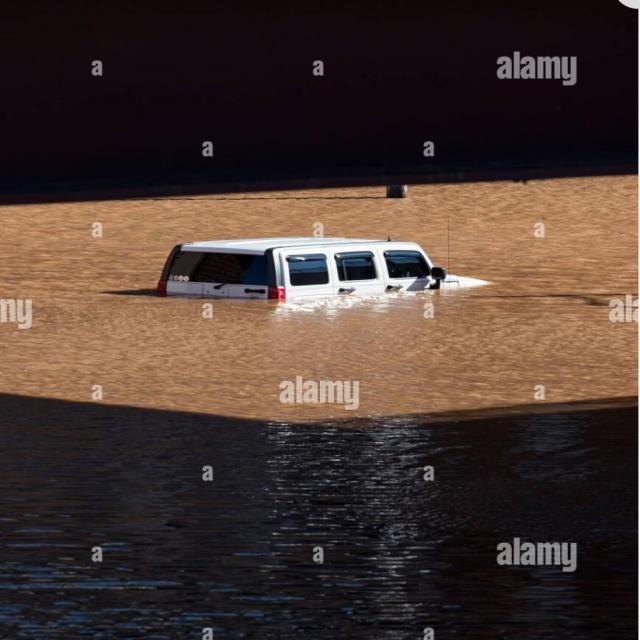water: (1, 176, 639, 637)
